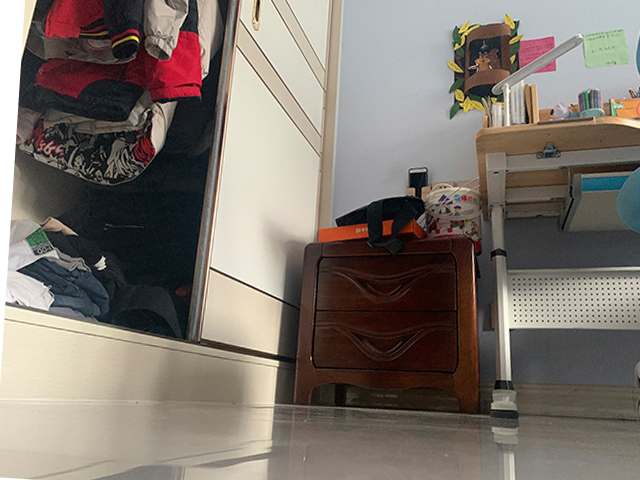cabinet: (5, 1, 334, 406), (294, 237, 483, 416)
table: (475, 115, 640, 420)
